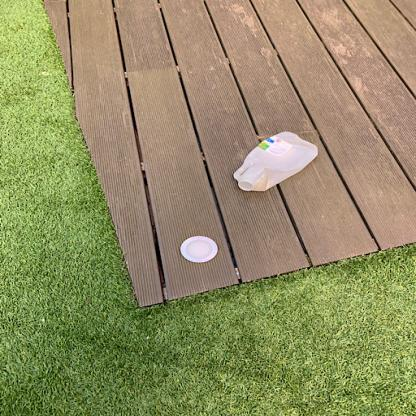trash: (230, 132, 324, 196)
